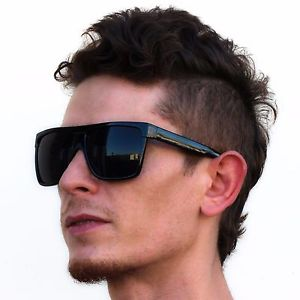sunglasses: (28, 122, 213, 191)
